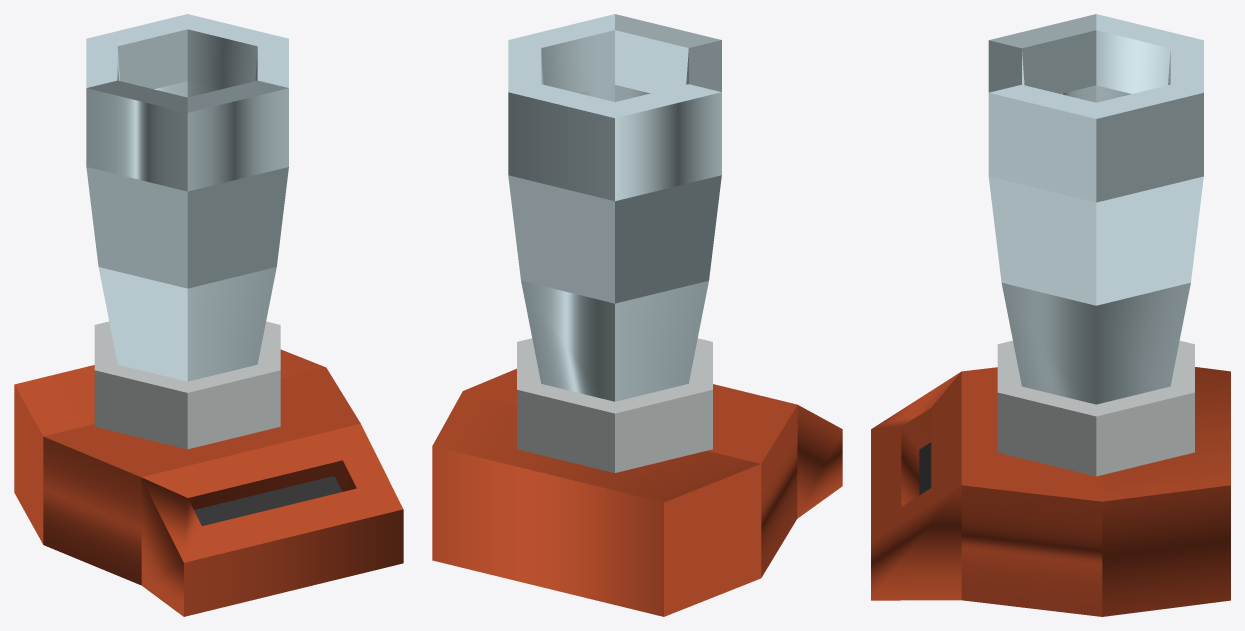
File: blender_v02.fbx
The picture shows the model from 3 angles, left to right: view 1: azimuth 30°, elevation 25°; view 2: azimuth 150°, elevation 25°; view 3: azimuth 270°, elevation 25°; orthographic projection. The views are drawn at different scales.
Visible parts, largest first — view 1: blender_glass, Blender, blender_base; view 2: blender_glass, Blender, blender_base; view 3: blender_glass, Blender, blender_base.
Boxes of the visible parts, bbox=[...] form: blender_glass: bbox=[86, 14, 288, 381]; Blender: bbox=[14, 349, 403, 616]; blender_base: bbox=[94, 321, 280, 449]; blender_glass: bbox=[508, 14, 721, 401]; Blender: bbox=[432, 368, 842, 616]; blender_base: bbox=[517, 338, 712, 472]; blender_glass: bbox=[988, 14, 1203, 404]; Blender: bbox=[871, 367, 1230, 616]; blender_base: bbox=[997, 340, 1194, 476].
Bounding box in the file's own units: 27.95 × 42.4 × 28.99.
